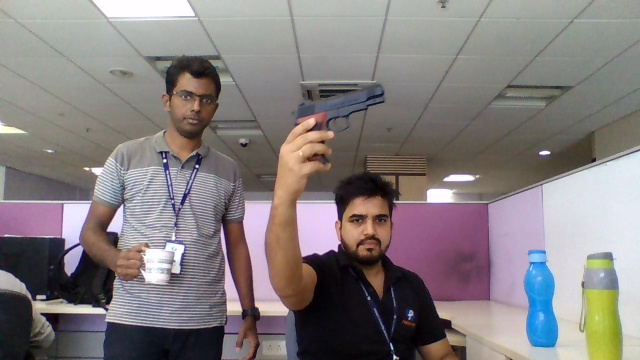gun: (296, 102, 369, 130)
